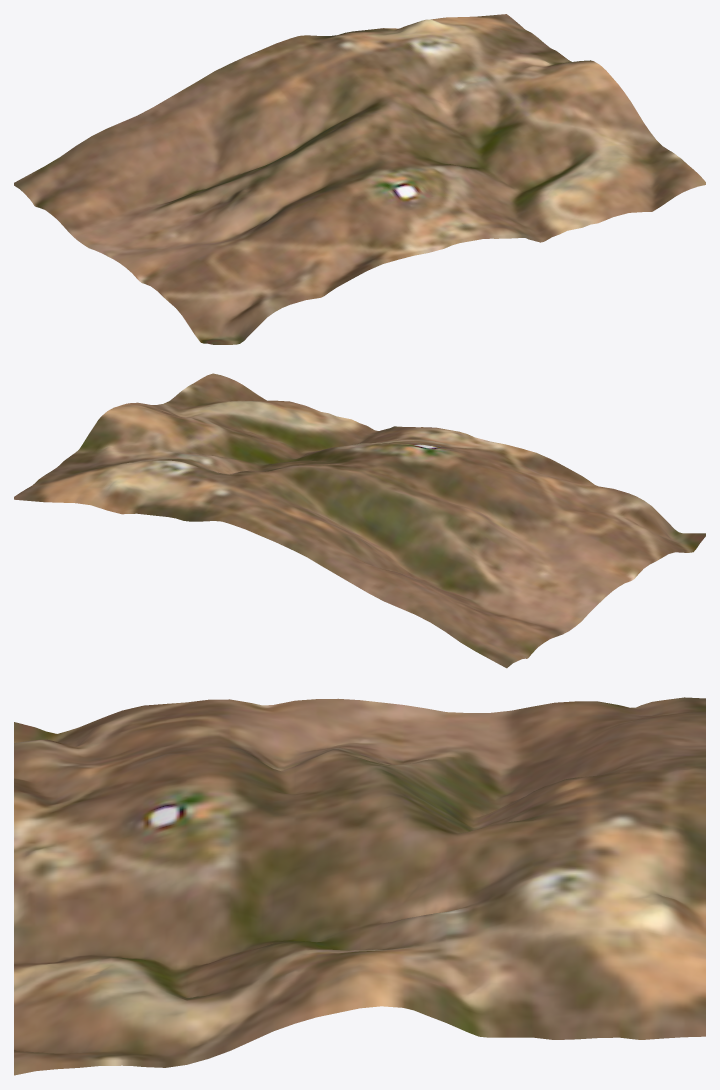
Rendered from terrain_r1_c3_lod1.glb.
The picture shows the model from 3 angles, top to bottom: view 1: azimuth 30°, elevation 25°; view 2: azimuth 150°, elevation 25°; view 3: azimuth 270°, elevation 25°; orthographic projection. The views are drawn at different scales.
Visible parts, largest first — view 1: terrain_r1_c3_lod1; view 2: terrain_r1_c3_lod1; view 3: terrain_r1_c3_lod1.
Boxes of the visible parts, x1=… form: terrain_r1_c3_lod1: x1=14, y1=14, x2=705, y2=344; terrain_r1_c3_lod1: x1=14, y1=373, x2=705, y2=668; terrain_r1_c3_lod1: x1=14, y1=697, x2=705, y2=1075.
Bounding box in the file's own units: 1125 × 226 × 787.
Materials: 1 (1 with a texture image).
